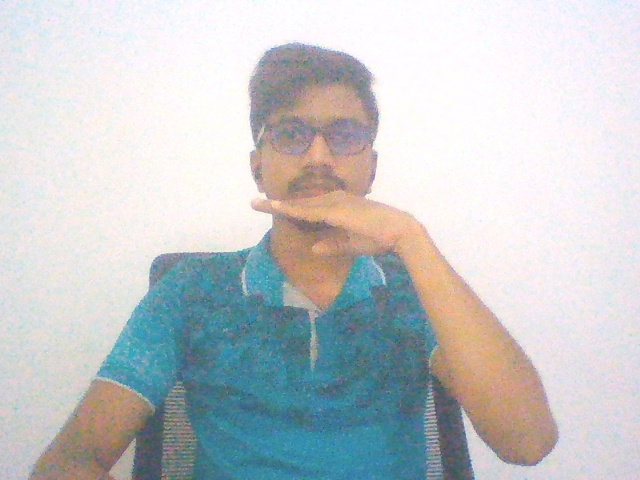elephant: (224, 164, 469, 283)
